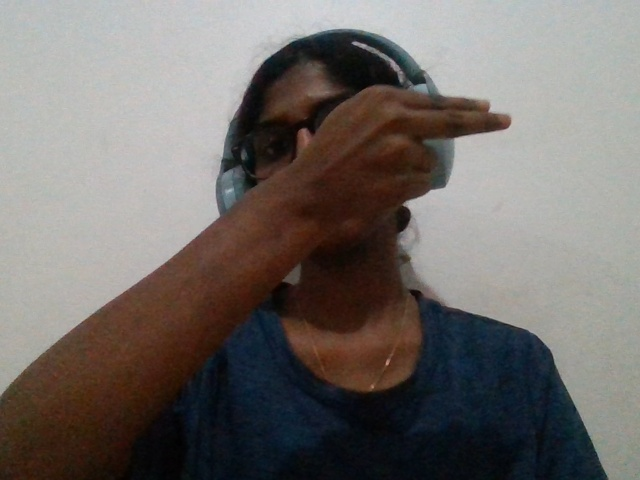H: (176, 77, 537, 277)
